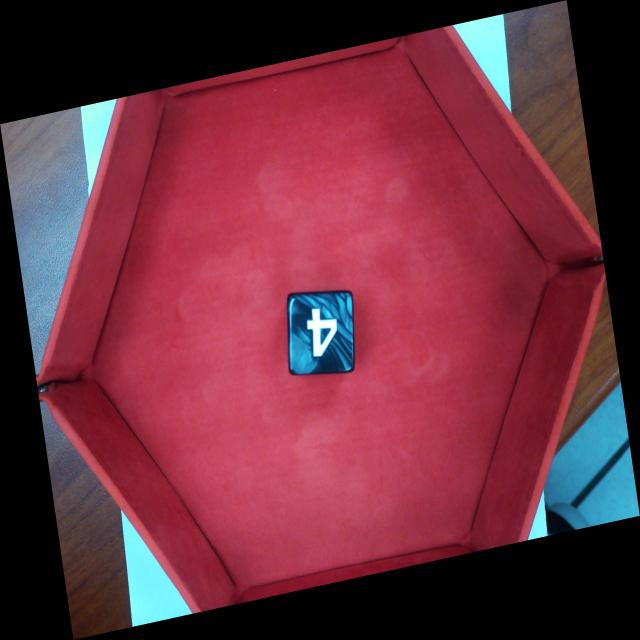dice: (286, 286, 357, 379)
